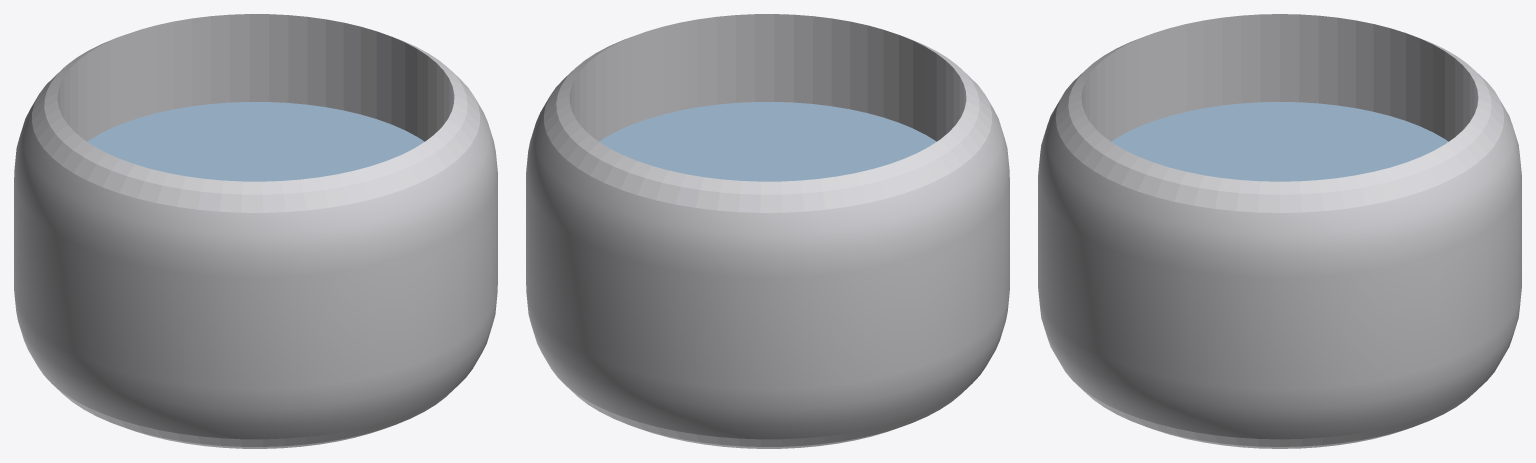
The model's file is dog_bowl.glb.
3 views of the same model, side by side, from view 1: azimuth 30°, elevation 25°; view 2: azimuth 150°, elevation 25°; view 3: azimuth 270°, elevation 25° (orthographic).
Parts seen in each view (by area): view 1: Cylinder.002, Cylinder.003; view 2: Cylinder.002, Cylinder.003; view 3: Cylinder.002, Cylinder.003.
Part boxes in pixels (x1,y1,x2,y2): Cylinder.002: [14, 14, 497, 448]; Cylinder.003: [87, 102, 424, 181]; Cylinder.002: [526, 14, 1009, 448]; Cylinder.003: [599, 102, 936, 181]; Cylinder.002: [1038, 14, 1521, 448]; Cylinder.003: [1111, 102, 1448, 181].
Bounding box in the file's own units: 4.8 × 2.96 × 4.8.
